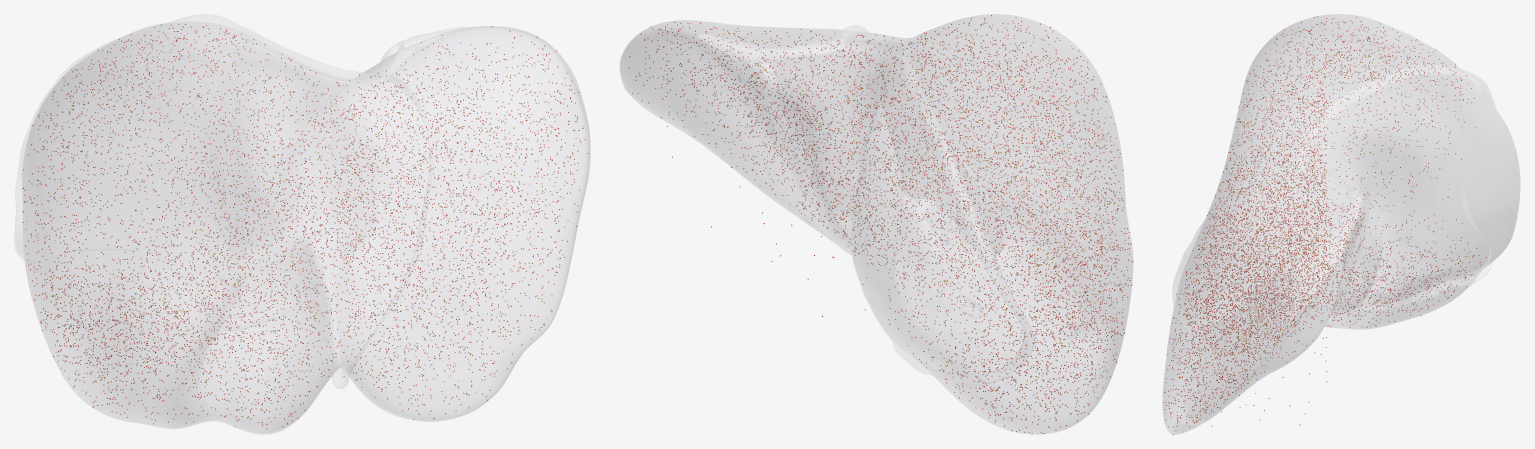
Rendered from 3d-vh-f-liver-UBERON_0002107-all-as-popv-sphere-hra-pop.glb.
3 views of the same model, side by side, from view 1: azimuth 30°, elevation 25°; view 2: azimuth 150°, elevation 25°; view 3: azimuth 270°, elevation 25° (orthographic). The views are drawn at different scales.
Visible parts, largest first — view 1: VH_F_capsule_of_the_liver, VH_F_left_anterolateral_segment, VH_F_left_superomedial_segment, VH_F_right_anteroinferior_segment, VH_F_right_posterosuperior_segment, VH_F_coronary_ligament_of_liver, VH_F_falciform_ligament, VH_F_right_posteroinferior_segment; view 2: VH_F_capsule_of_the_liver, VH_F_left_superomedial_segment, VH_F_bare_area_of_liver, VH_F_right_anterosuperior_segment, VH_F_coronary_ligament_of_liver, VH_F_right_anteroinferior_segment, VH_F_right_posteroinferior_segment, VH_F_ligamentum_venosum, VH_F_right_posterosuperior_segment, VH_F_triangular_ligament_of_liver; view 3: VH_F_capsule_of_the_liver, VH_F_right_posterosuperior_segment, VH_F_right_anterosuperior_segment, VH_F_bare_area_of_liver, VH_F_left_anterolateral_segment, VH_F_coronary_ligament_of_liver, VH_F_right_posteroinferior_segment, VH_F_left_superomedial_segment, VH_F_falciform_ligament, VH_F_caudate_lobe, VH_F_ligamentum_venosum, VH_F_left_superomedial_segment1.
Part boxes in pixels (x1,y1,x2,y2): VH_F_capsule_of_the_liver: [22, 22, 589, 434]; VH_F_left_anterolateral_segment: [346, 228, 576, 420]; VH_F_left_superomedial_segment: [389, 27, 589, 224]; VH_F_right_anteroinferior_segment: [72, 303, 223, 427]; VH_F_right_posterosuperior_segment: [22, 28, 147, 220]; VH_F_coronary_ligament_of_liver: [15, 14, 409, 259]; VH_F_falciform_ligament: [348, 74, 432, 372]; VH_F_right_posteroinferior_segment: [23, 234, 56, 363]; VH_F_capsule_of_the_liver: [620, 14, 1132, 434]; VH_F_left_superomedial_segment: [621, 21, 841, 141]; VH_F_bare_area_of_liver: [850, 91, 903, 349]; VH_F_right_anterosuperior_segment: [957, 14, 1129, 235]; VH_F_coronary_ligament_of_liver: [769, 36, 1034, 384]; VH_F_right_anteroinferior_segment: [1062, 251, 1132, 429]; VH_F_right_posteroinferior_segment: [869, 303, 1042, 433]; VH_F_ligamentum_venosum: [751, 56, 816, 212]; VH_F_right_posterosuperior_segment: [851, 169, 866, 284]; VH_F_triangular_ligament_of_liver: [698, 34, 767, 63]; VH_F_capsule_of_the_liver: [1163, 14, 1458, 434]; VH_F_right_posterosuperior_segment: [1393, 29, 1519, 213]; VH_F_right_anterosuperior_segment: [1249, 14, 1391, 109]; VH_F_bare_area_of_liver: [1347, 92, 1519, 264]; VH_F_left_anterolateral_segment: [1163, 303, 1251, 433]; VH_F_coronary_ligament_of_liver: [1299, 65, 1495, 311]; VH_F_right_posteroinferior_segment: [1422, 225, 1514, 314]; VH_F_left_superomedial_segment: [1258, 204, 1364, 379]; VH_F_falciform_ligament: [1173, 163, 1298, 305]; VH_F_caudate_lobe: [1339, 207, 1381, 305]; VH_F_ligamentum_venosum: [1333, 189, 1370, 308]; VH_F_left_superomedial_segment1: [1208, 111, 1238, 214].
Size of the model in its own units: 0.2471 by 0.17 by 0.1663.
